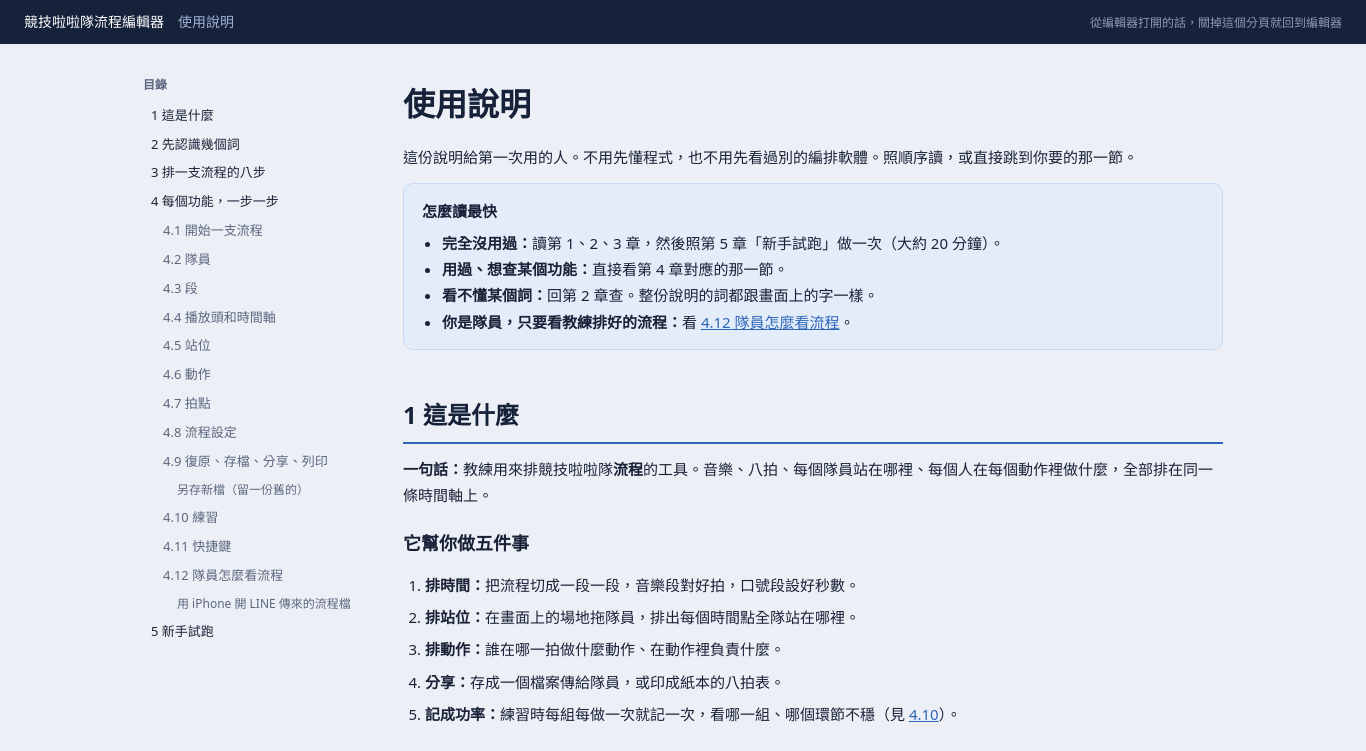
Scenario: 使用說明 › 從編輯器打開（網址有 ?from=editor） › 左上的大標題是關掉這個分頁；關不掉就寫怎麼回編輯器
Click the button with aria-label "關掉這個分頁，回到編輯器". click: coordinates (94, 22)
box: x1=24 y1=12 x2=164 y2=32
Wait 500 ms
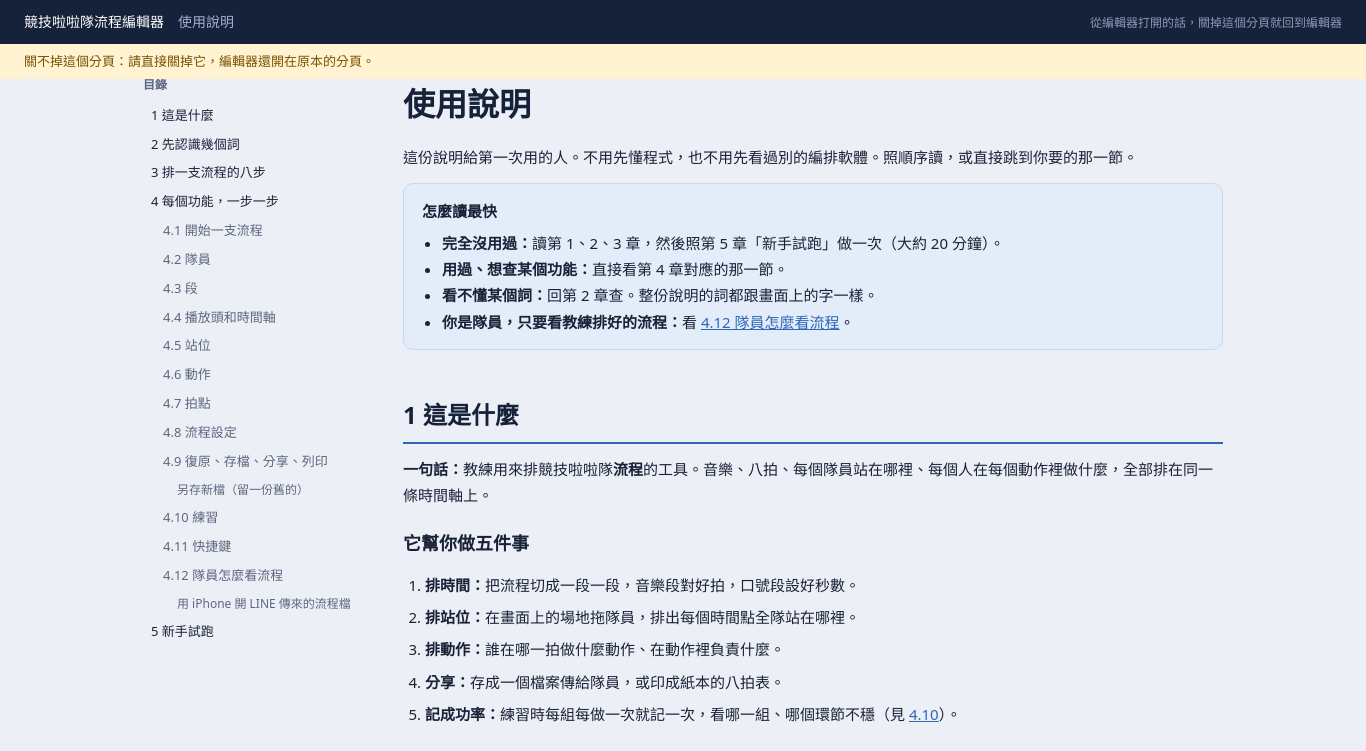
Expected: the message shows "關不掉這個分頁", x1=24 y1=52 x2=375 y2=70
